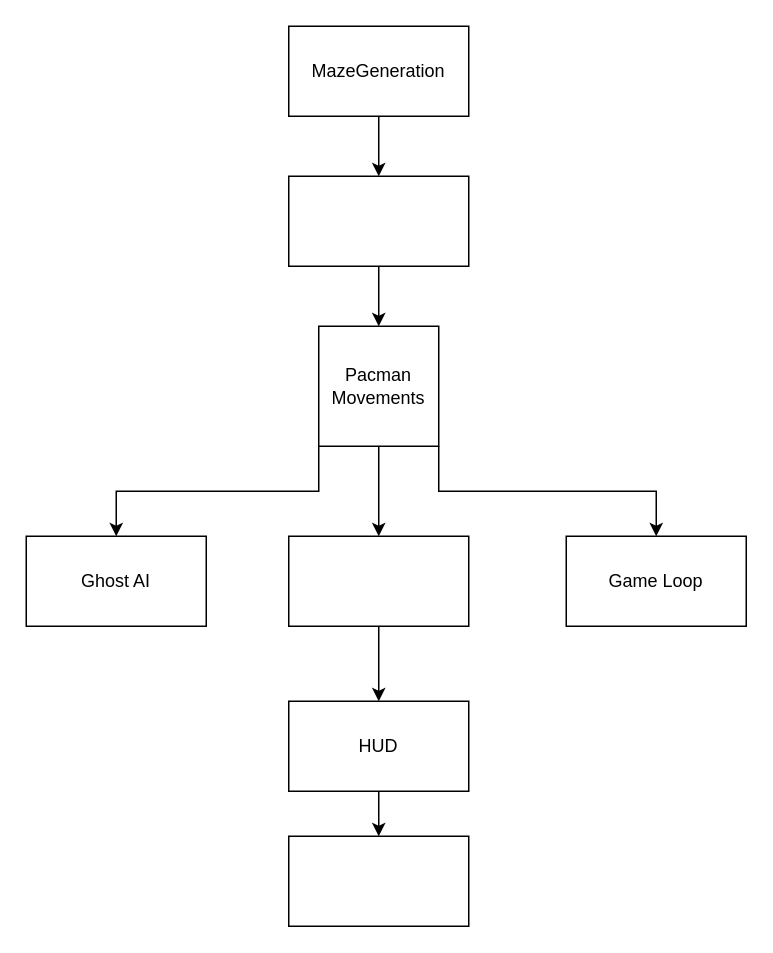
Image size: 773x953. Some labels were removed from this diagram. Each missing label, with the centre of its shape:
Ghost Behaviors: pixel 378 580
Pac-gums and Super Pac-gums: pixel 378 220
Testing: pixel 378 880
